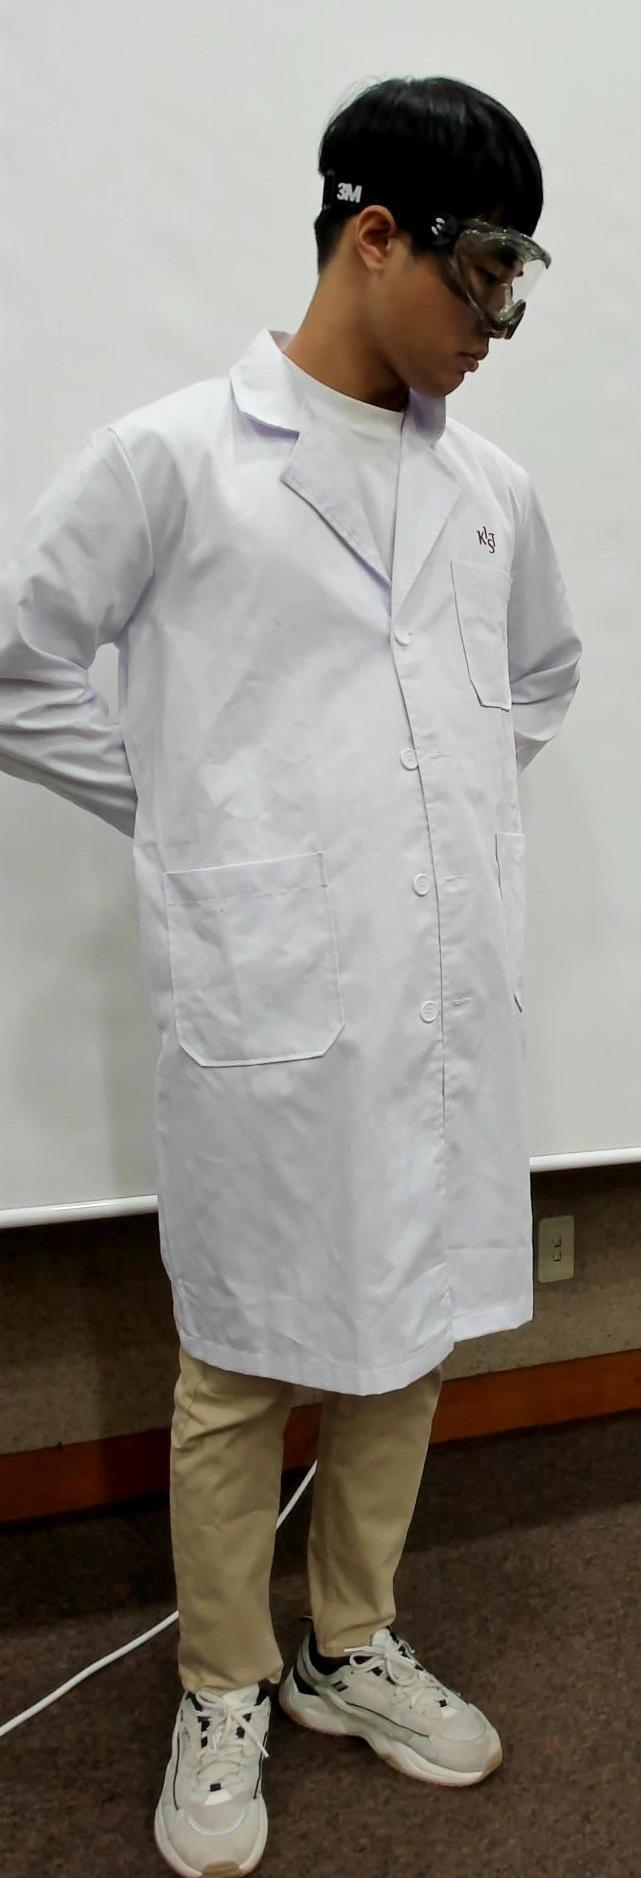lab_coat: (117, 374, 586, 1359)
